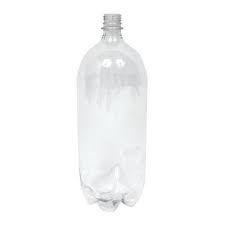available: (71, 12, 157, 216)
